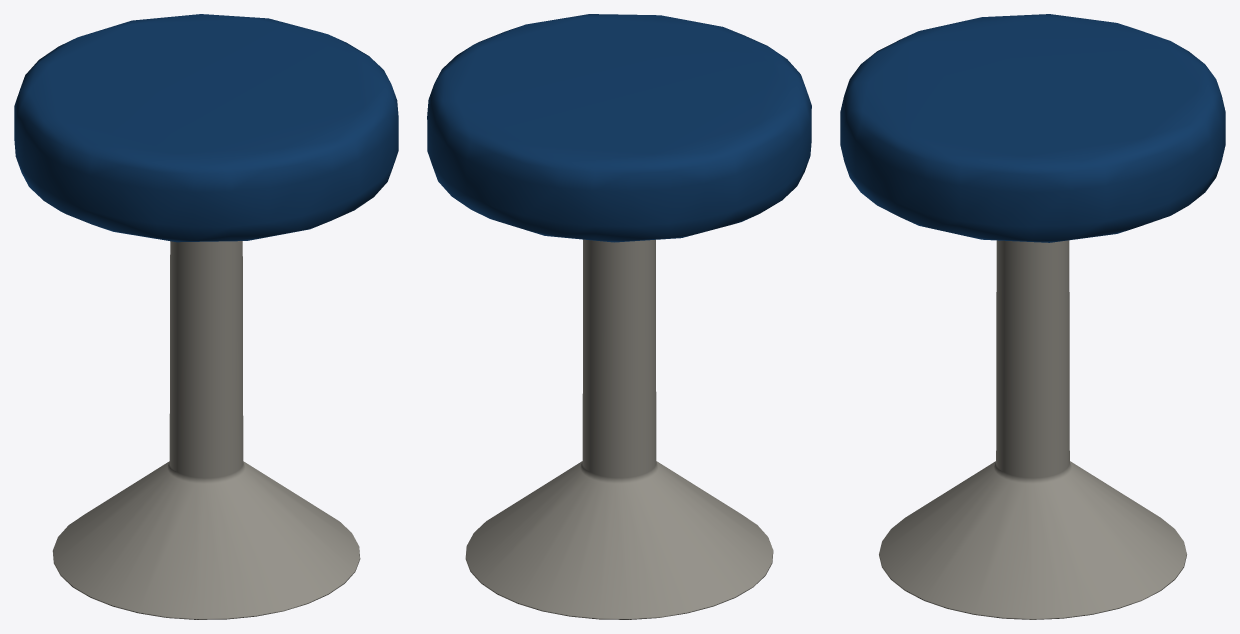
The model's file is barstool_03_blue.fbx.
3 views of the same model, side by side, from view 1: azimuth 30°, elevation 25°; view 2: azimuth 150°, elevation 25°; view 3: azimuth 270°, elevation 25° (orthographic).
Parts seen in each view (by area): view 1: barstool_03_blue; view 2: barstool_03_blue; view 3: barstool_03_blue.
Part boxes in pixels (x1,y1,x2,y2): barstool_03_blue: (14, 14, 398, 619); barstool_03_blue: (427, 14, 811, 619); barstool_03_blue: (840, 14, 1225, 619).
Size of the model in its own units: 52.72 by 70.84 by 52.72.
2 materials, 2 textured.
